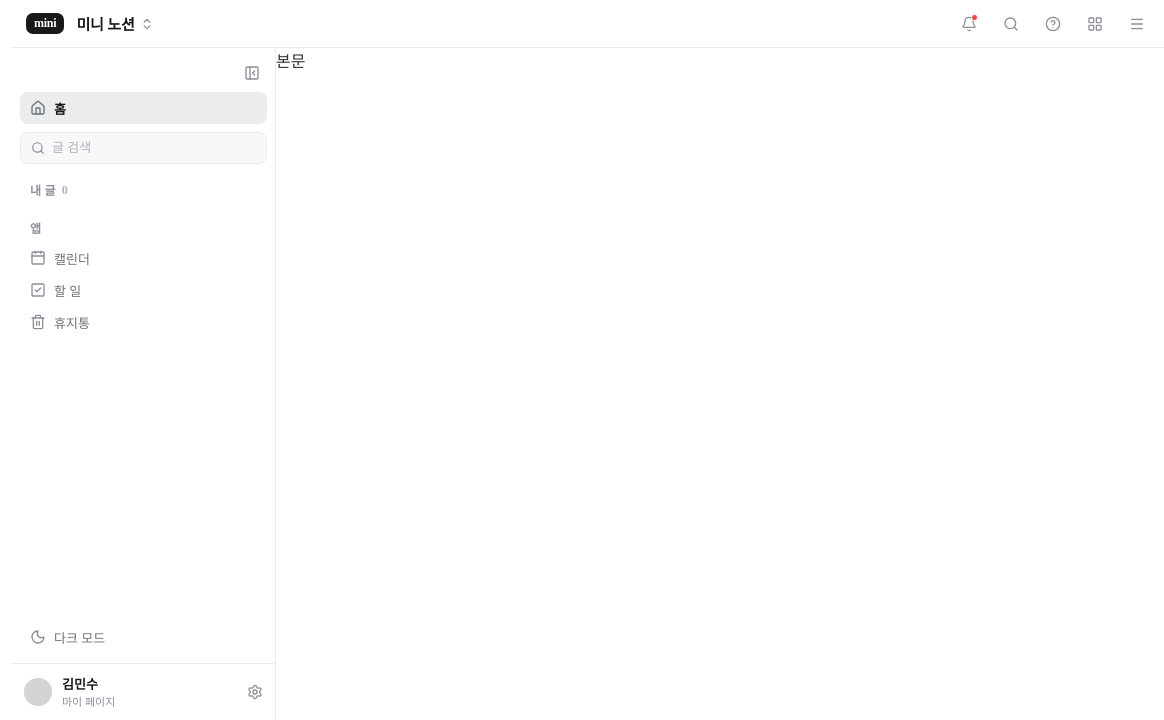
Scenario: US1: 사이드바 접기/펼치기 토글 › 다시 펼치기 — 사이드바가 복귀하고 접기 전 검색어가 유지된다 (FR-008)
In the field with placeholder "글 검색": (154, 148) [52,140,256,156], type "회의"
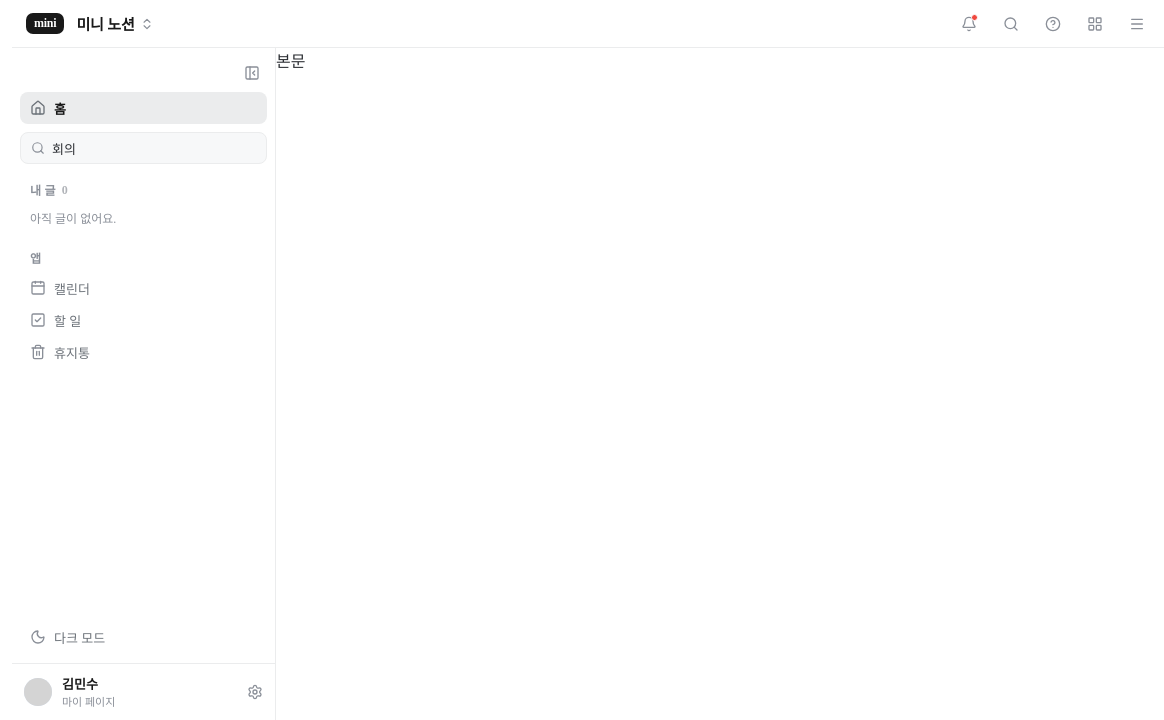
Click the button named "사이드바 접기": (252, 73) [237,58,267,88]
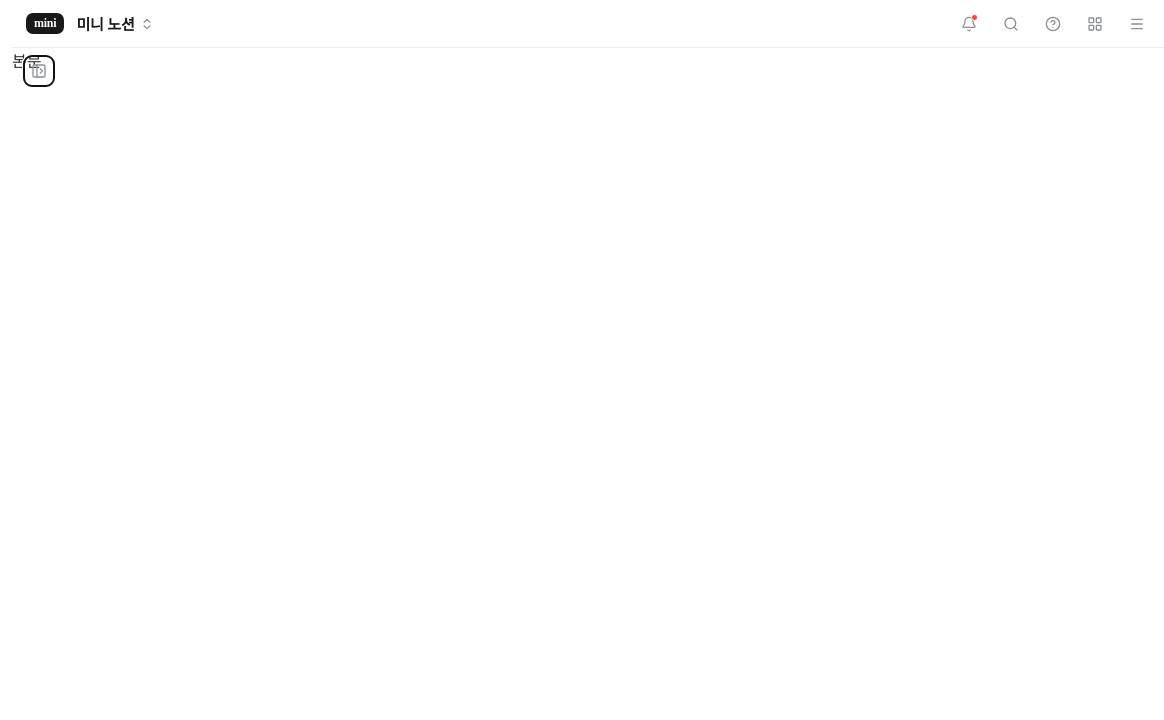
Click the button named "사이드바 펼치기": (39, 71) [24,56,54,86]
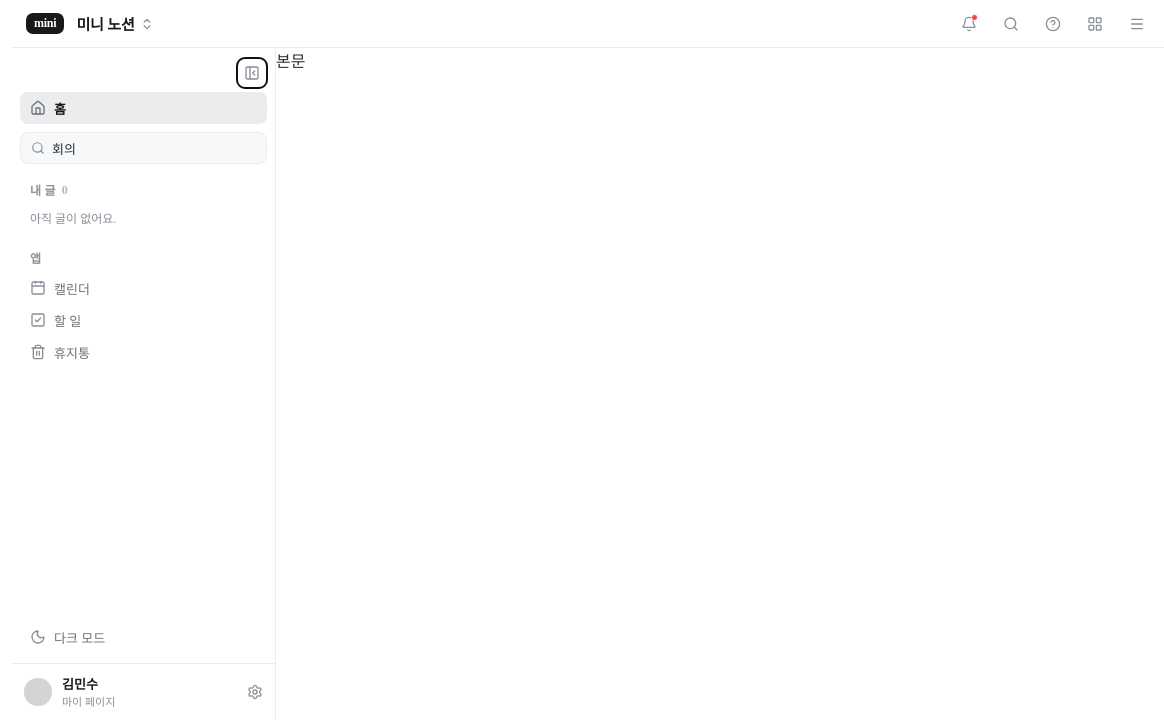
Now the field with placeholder "글 검색" holds "회의", box [52,140,256,156]
Now the button named "사이드바 접기" is expanded, box [237,58,267,88]
